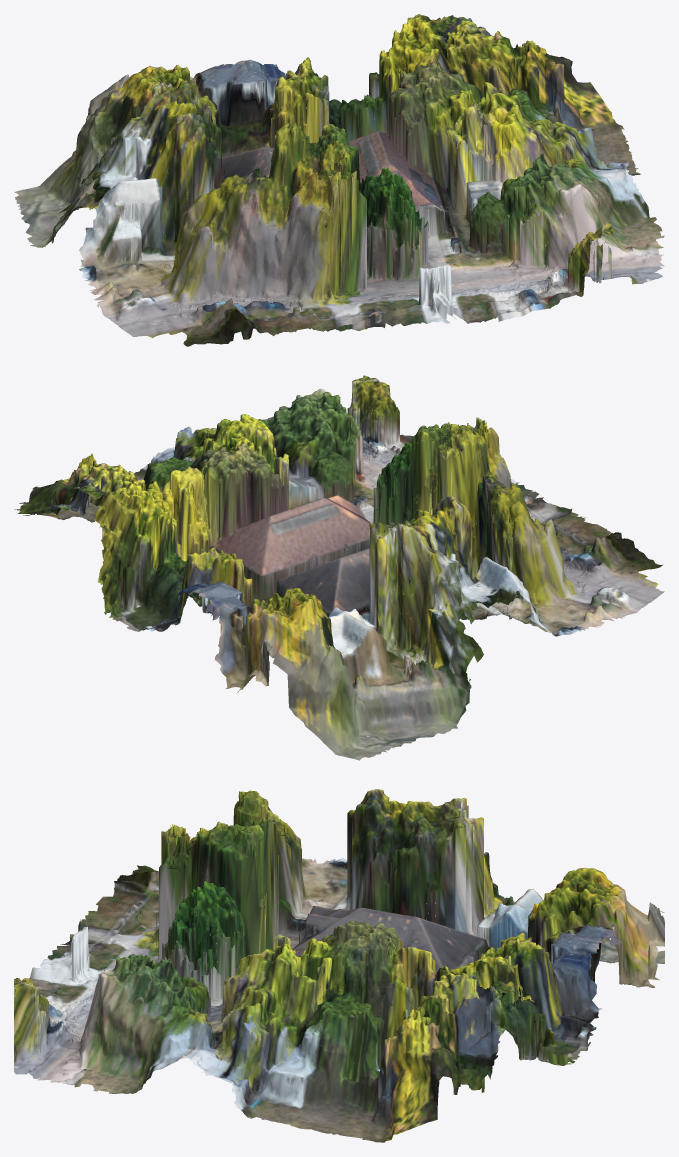
3 views of the same model, one above another, from view 1: azimuth 30°, elevation 25°; view 2: azimuth 150°, elevation 25°; view 3: azimuth 270°, elevation 25° (orthographic). The views are drawn at different scales.
Visible parts, largest first — view 1: YUpCorrection; view 2: YUpCorrection; view 3: YUpCorrection.
Boxes of the visible parts, x1,y1,x2,y2 form: YUpCorrection: (14, 14, 664, 346); YUpCorrection: (14, 375, 664, 760); YUpCorrection: (14, 789, 664, 1142).
Size of the model in its own units: 79.78 by 25.49 by 73.5.
2 materials, 2 textured.
